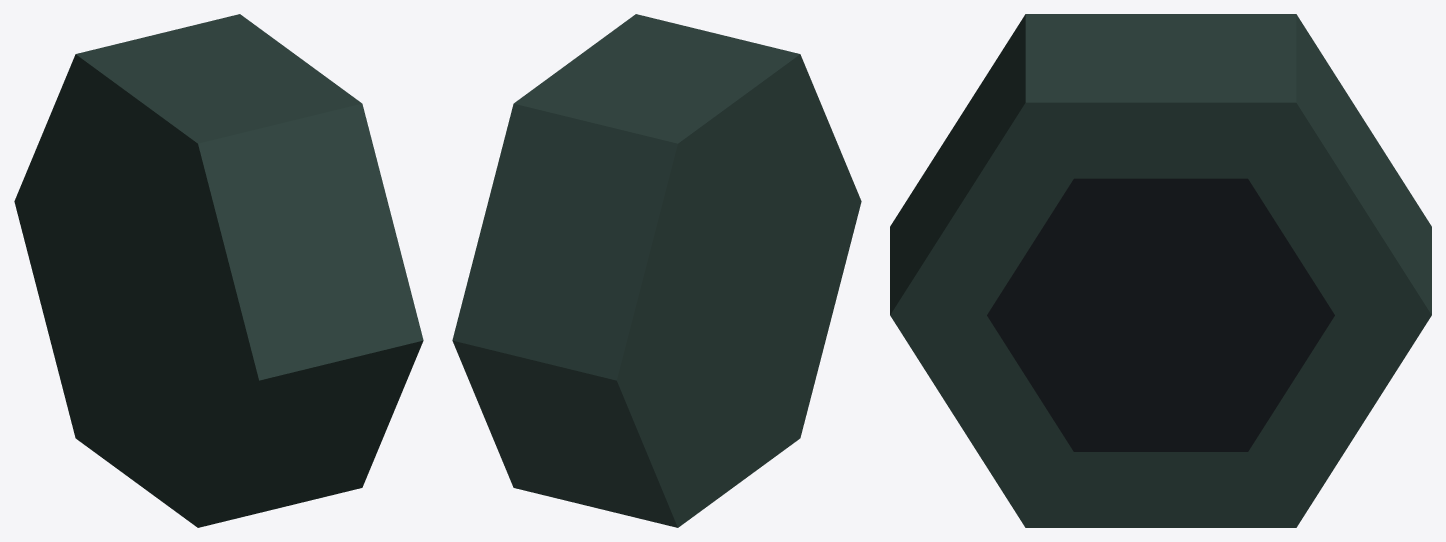
File: prop30.FBX
The picture shows the model from 3 angles, left to right: view 1: azimuth 30°, elevation 25°; view 2: azimuth 150°, elevation 25°; view 3: azimuth 270°, elevation 25°; orthographic projection. The views are drawn at different scales.
Visible parts, largest first — view 1: prop30; view 2: prop30; view 3: prop30.
Boxes of the visible parts, <box> form: prop30: <box>14,14,423,527</box>; prop30: <box>452,14,861,527</box>; prop30: <box>890,14,1431,527</box>.
Size of the model in its own units: 1.67 by 3.74 by 4.31.
